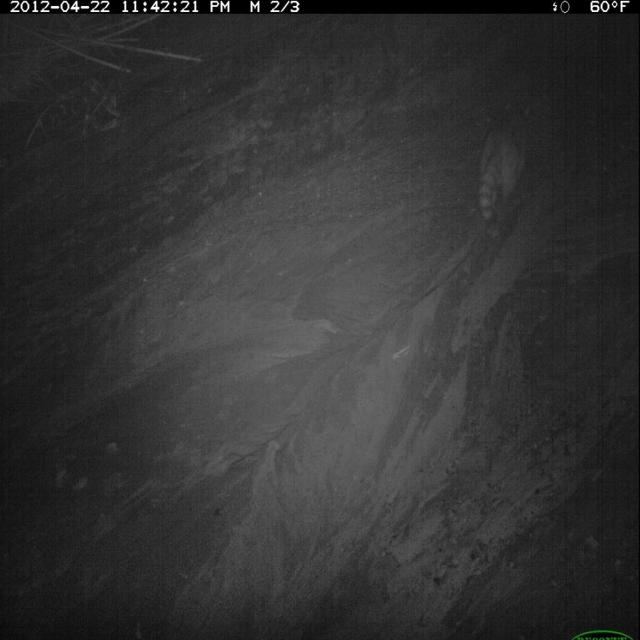raccoon: (478, 99, 533, 229)
